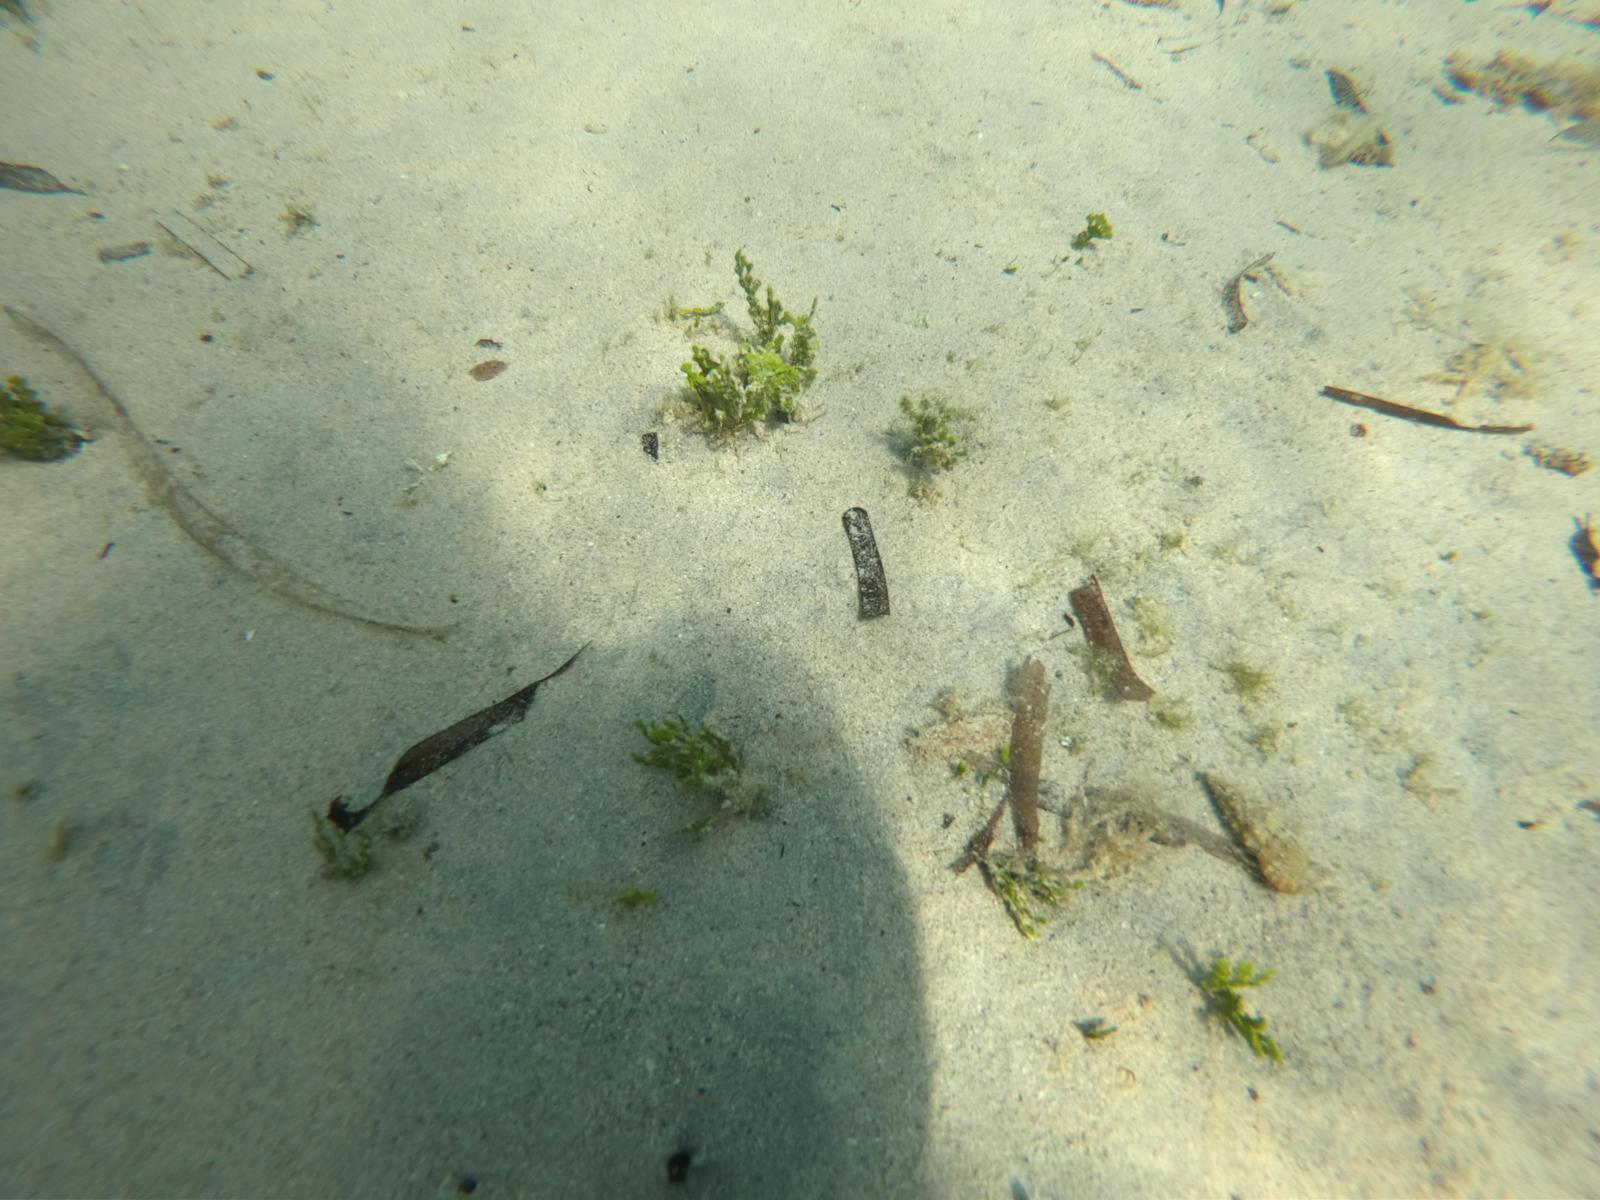halimeda: (684, 248, 821, 437), (632, 713, 737, 800), (1202, 955, 1283, 1066), (986, 855, 1068, 945), (1, 372, 68, 463), (900, 395, 955, 474), (311, 819, 377, 884), (1078, 208, 1110, 252)
